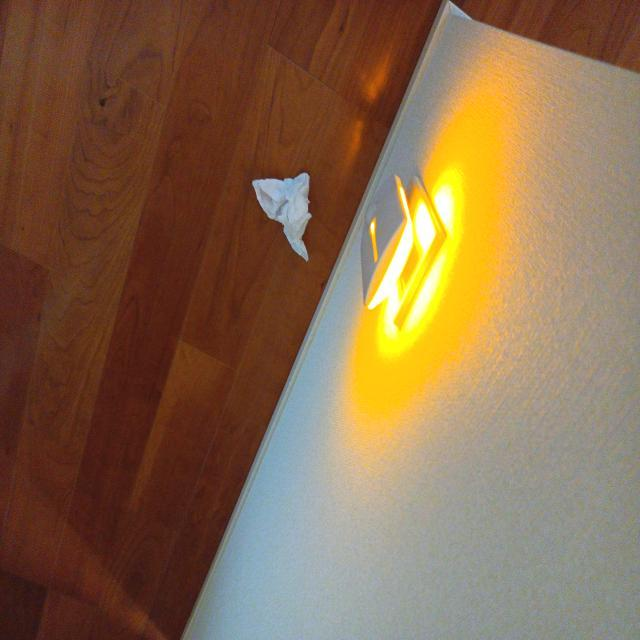Paper: (250, 169, 329, 253)
